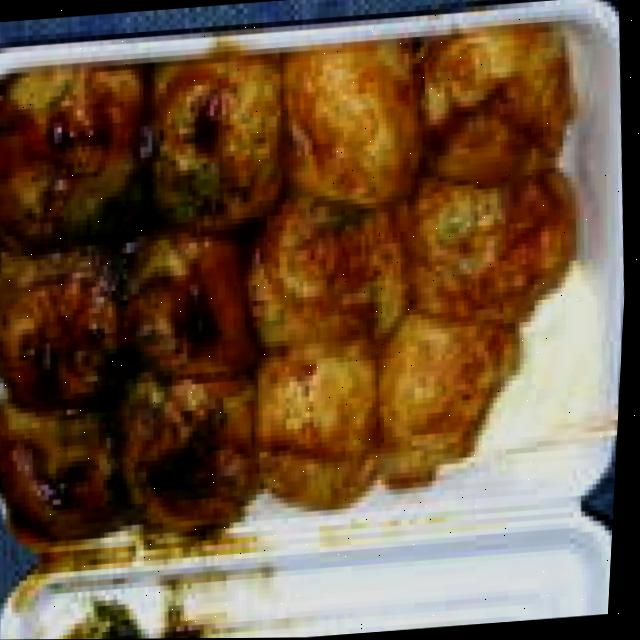炸货点心: (0, 4, 613, 583)
